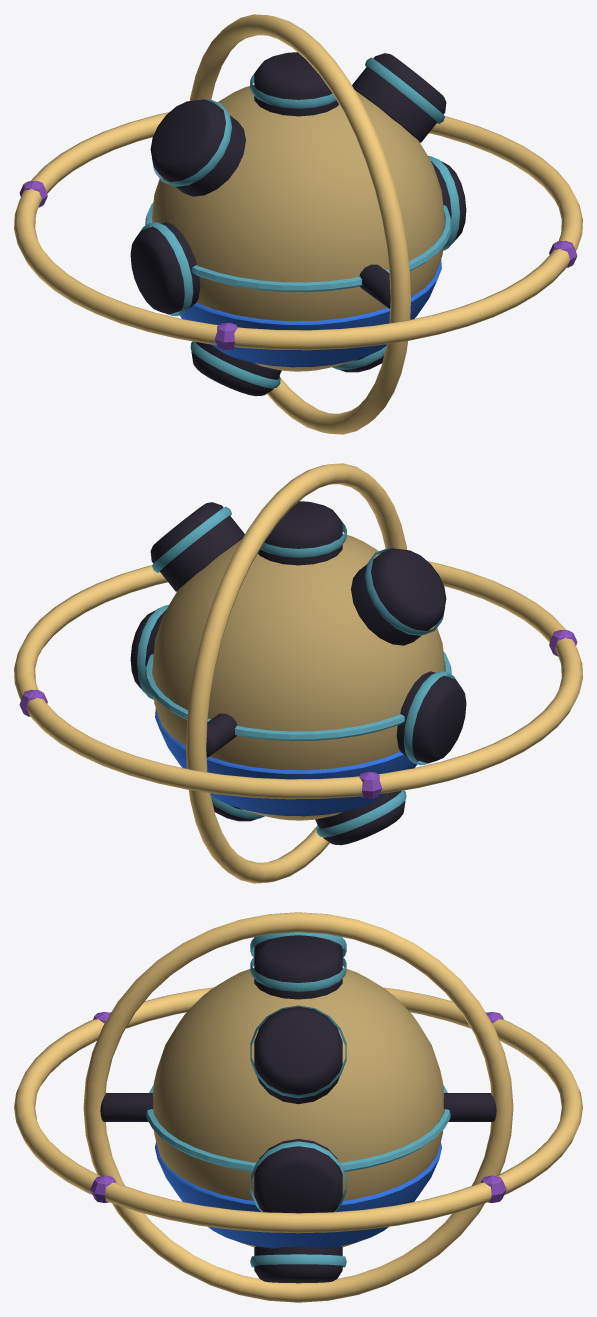
The model's file is Kit_Core_LeagueGyro.glb.
3 views of the same model, one above another, from view 1: azimuth 30°, elevation 25°; view 2: azimuth 150°, elevation 25°; view 3: azimuth 270°, elevation 25° (orthographic).
Parts seen in each view (by area): view 1: Kit_Core_LeagueGyro; view 2: Kit_Core_LeagueGyro; view 3: Kit_Core_LeagueGyro.
Boxes of the visible parts, x1,y1,x2,y2 form: Kit_Core_LeagueGyro: [14, 14, 582, 434]; Kit_Core_LeagueGyro: [14, 463, 582, 883]; Kit_Core_LeagueGyro: [14, 912, 582, 1302].
Bounding box in the file's own units: 0.696 × 0.526 × 0.696.
